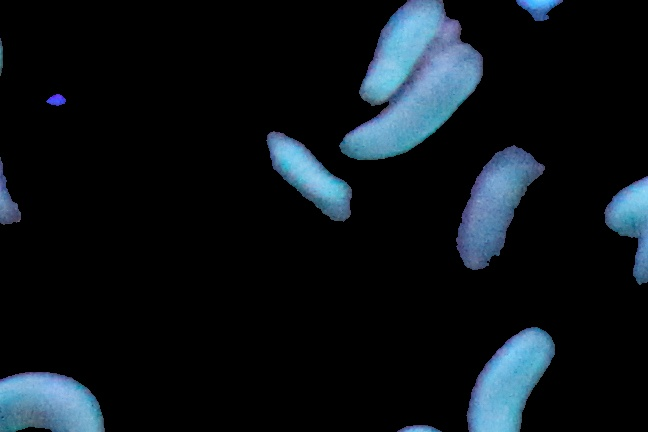larvae: (336, 43, 483, 155), (456, 141, 543, 268), (465, 326, 555, 432), (359, 3, 443, 103), (265, 125, 353, 220), (1, 368, 104, 432)
